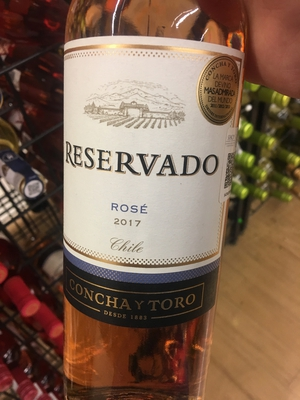reservado rose: (60, 18, 246, 400)
